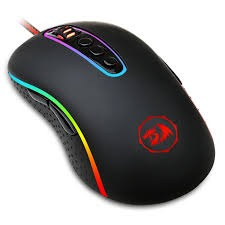mouse: (6, 17, 218, 209)
